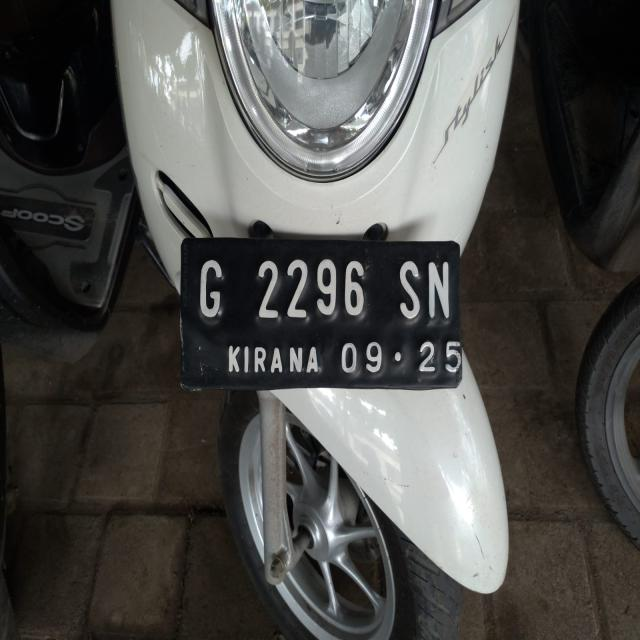plate: (181, 239, 464, 389)
